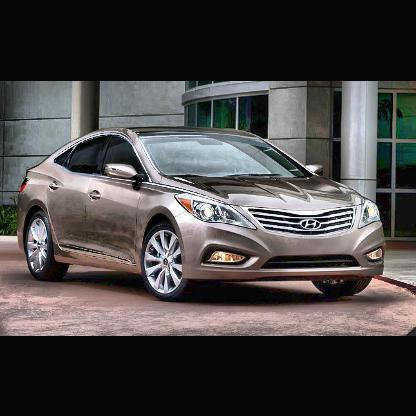Hyundai Azera Sedan 2012: (17, 126, 388, 303)
